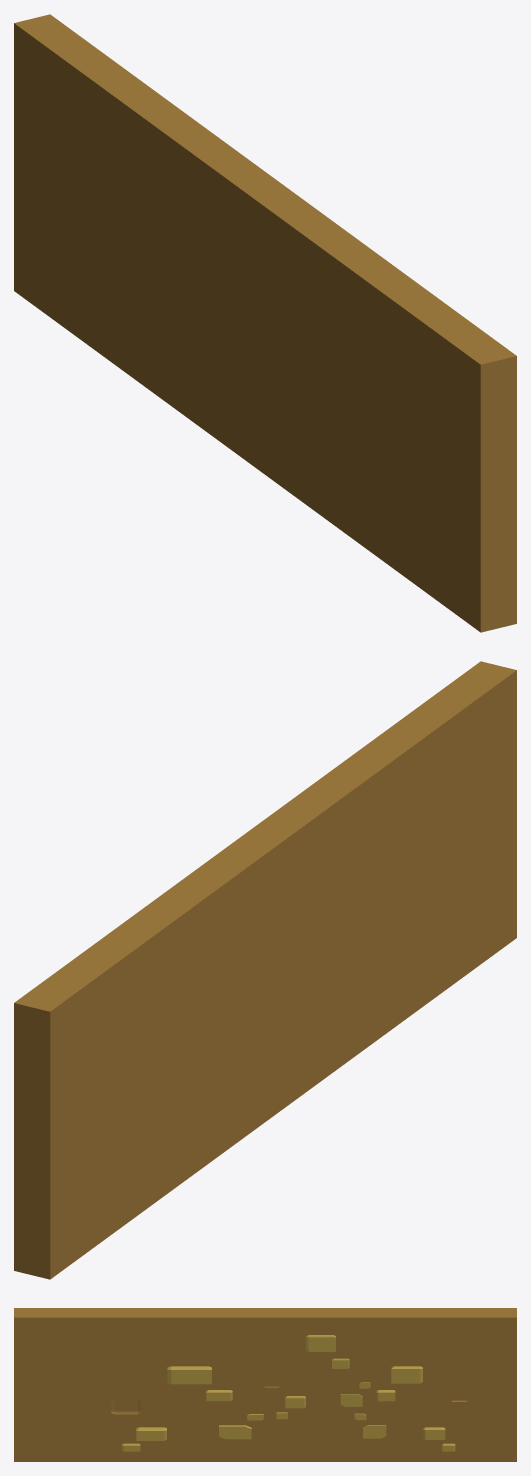
The model's file is EG_SideWalls.fbx.
The picture shows the model from 3 angles, top to bottom: view 1: azimuth 30°, elevation 25°; view 2: azimuth 150°, elevation 25°; view 3: azimuth 270°, elevation 25°; orthographic projection. The views are drawn at different scales.
Visible parts, largest first — view 1: SideWallLeft.001; view 2: SideWallLeft.001; view 3: SideWallLeft.001.
Boxes of the visible parts, x1=… form: SideWallLeft.001: x1=14, y1=14, x2=516, y2=632; SideWallLeft.001: x1=14, y1=661, x2=516, y2=1279; SideWallLeft.001: x1=14, y1=1308, x2=516, y2=1461.
Size of the model in its own units: 69.75 by 390 by 1231.
